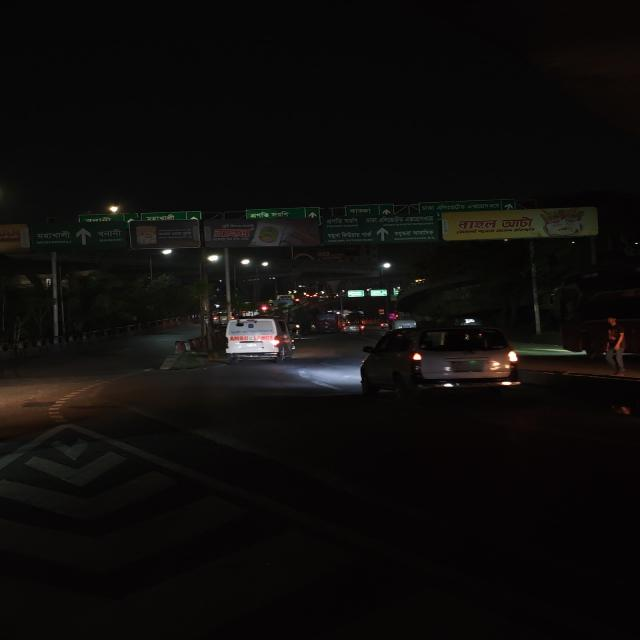bus: (310, 312, 340, 334)
car: (356, 324, 525, 398), (216, 313, 299, 365), (340, 320, 368, 334)
pedestrian: (596, 320, 630, 372)
